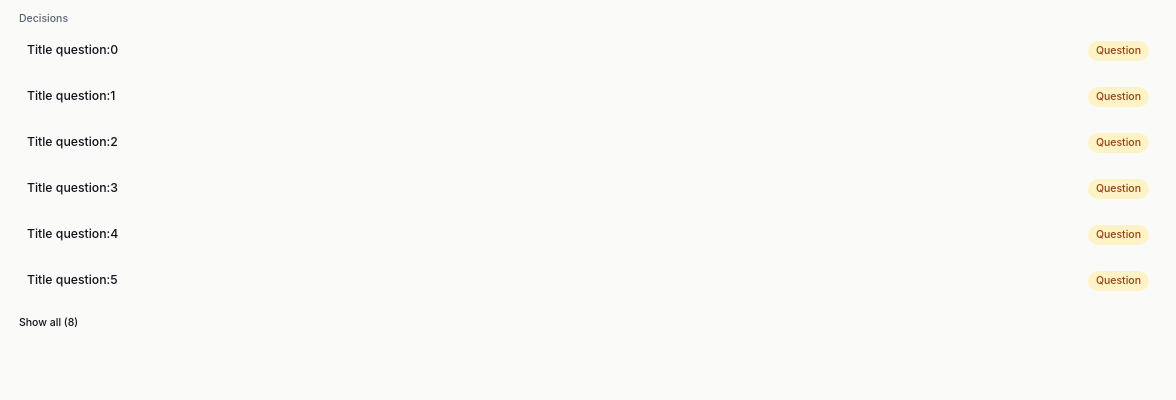
Scenario: NeedsYouList › shows six rows, then all of them on request
The width and height of the screenshot is (1176, 400).
Expected: the number of buttons "Title question:0 Question" is 6, [12,30,1164,72]; [12,76,1164,118]; [12,122,1164,164]; [12,168,1164,210]; [12,214,1164,256]; [12,260,1164,302]
Click the button "Show all (8)" at (49, 323), box [12,312,85,334]
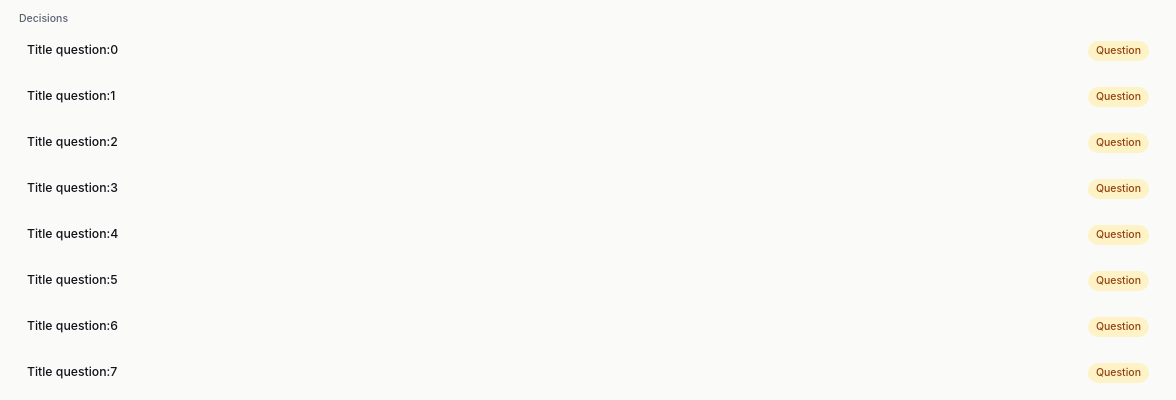
Now the number of buttons "Title question:0 Question" is 8
